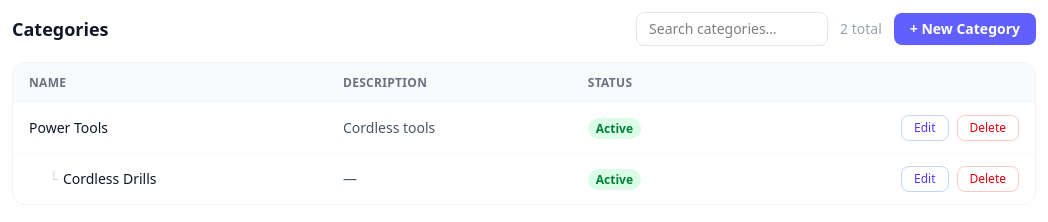
Scenario: CategoriesTab › deletes a category successfully and removes it from the list
Expected: the text "Cordless Drills" is shown, [63,169,156,188]
Click the button "Delete" in the row of "Cordless Drills".
click(988, 179)  # box [956,166,1019,192]
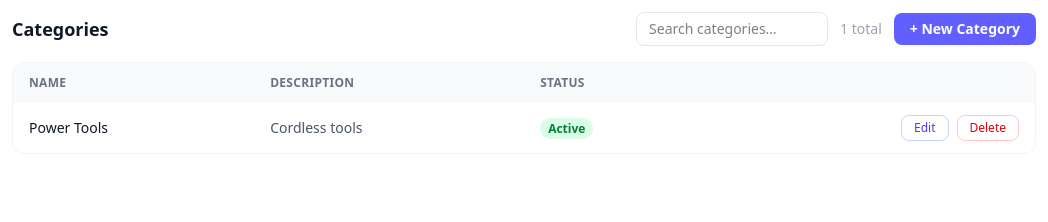
Result: the text "Cordless Drills" is gone
